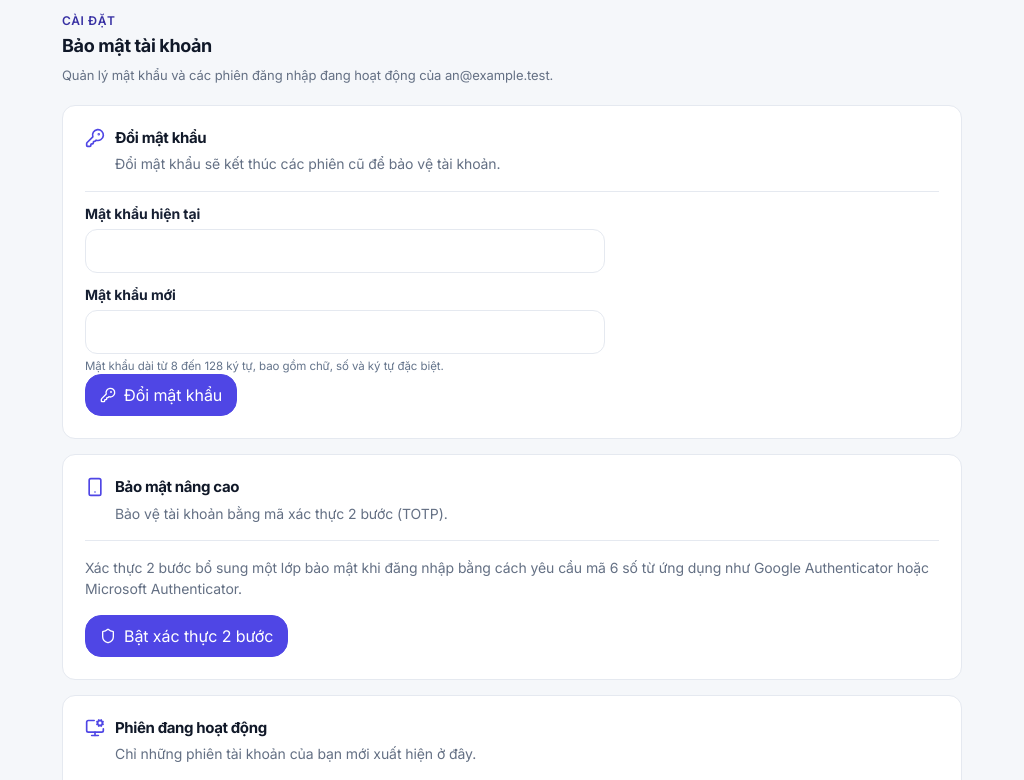
Scenario: SettingsPage password policy › falls back to the landing login when automatic re-authentication fails
The width and height of the screenshot is (1024, 780).
Expected: the heading "Bảo mật tài khoản" is shown, 62,35 -> 212,56
Type "CurrentPass123!" into the password field labelled "Mật khẩu hiện tại" at (345, 251), box 85,229 -> 605,273
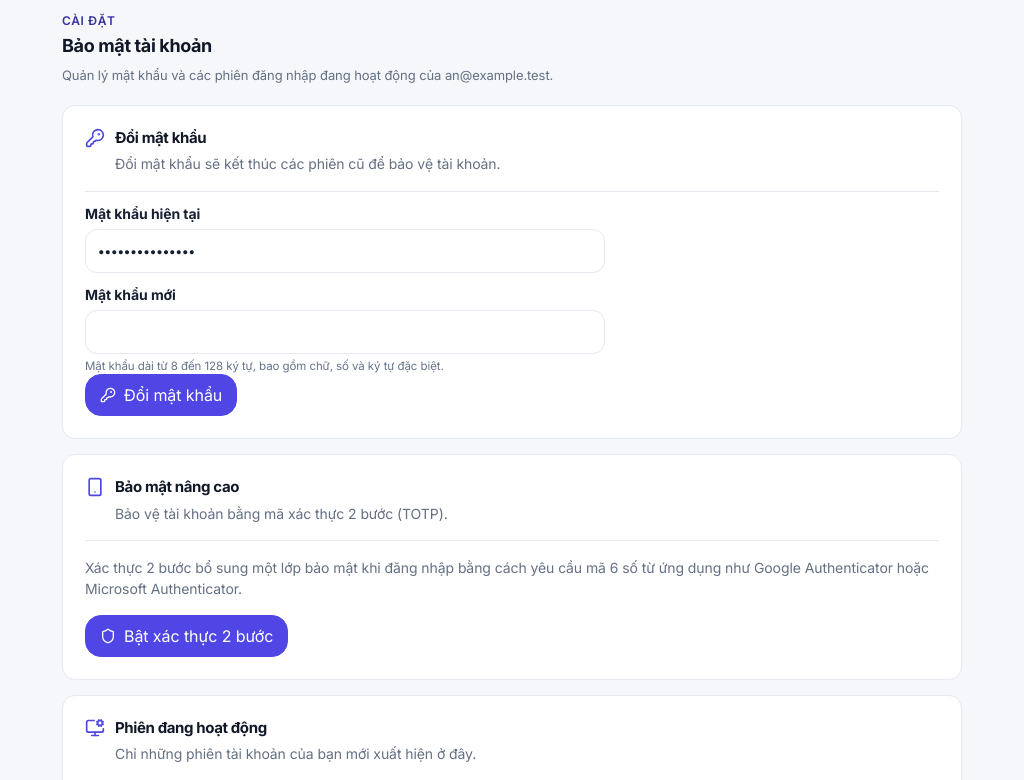
Type "ValidNewPass456#" into the password field labelled "Mật khẩu mới" at (345, 332), box 85,310 -> 605,354
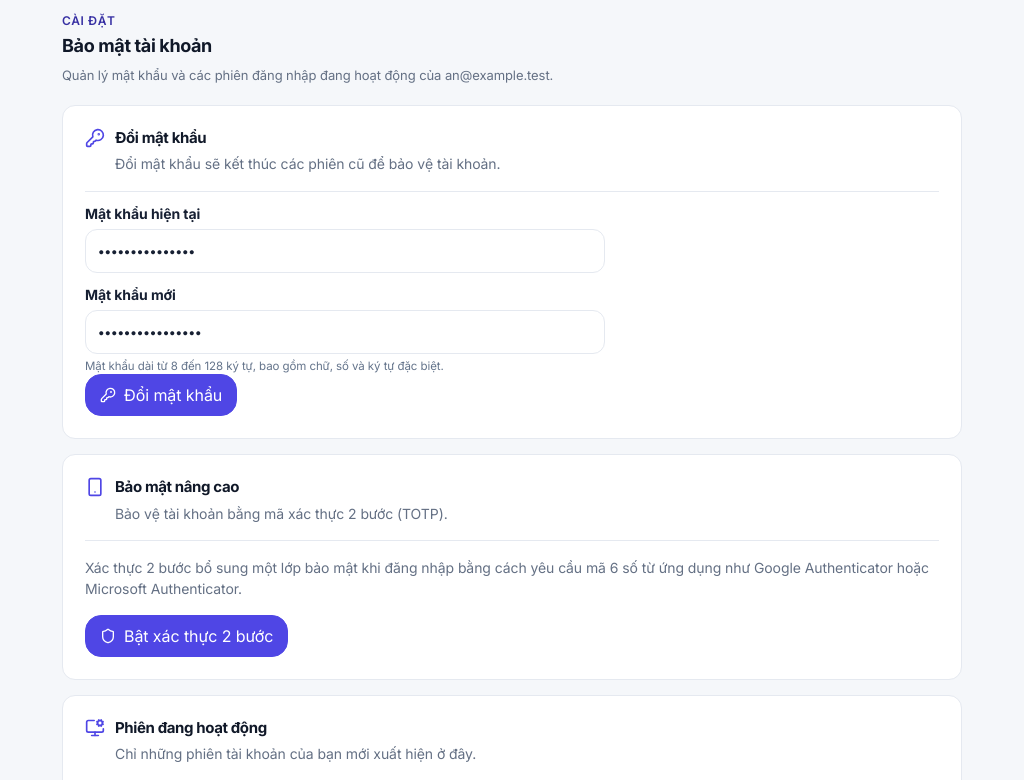
Submit the form named "Đổi mật khẩu", box 85,204 -> 605,416
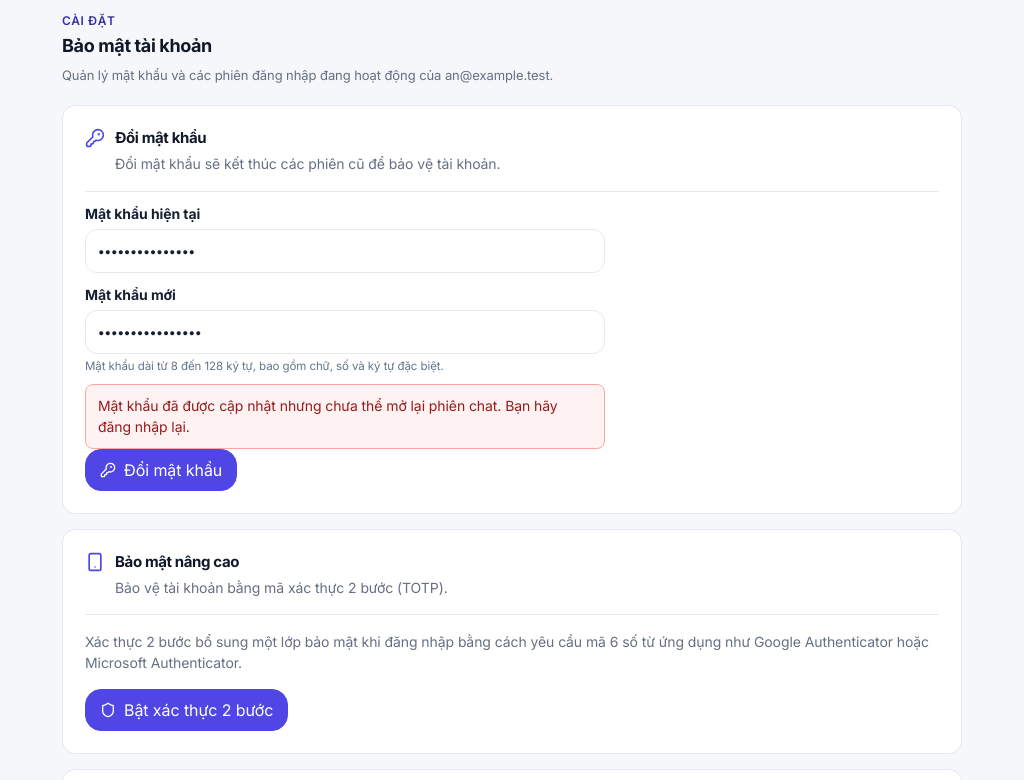
Result: the message shows "chưa thể mở lại phiên chat" at 98,397 -> 558,435
